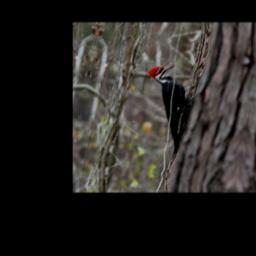Woodpecker: (131, 59, 202, 160)
